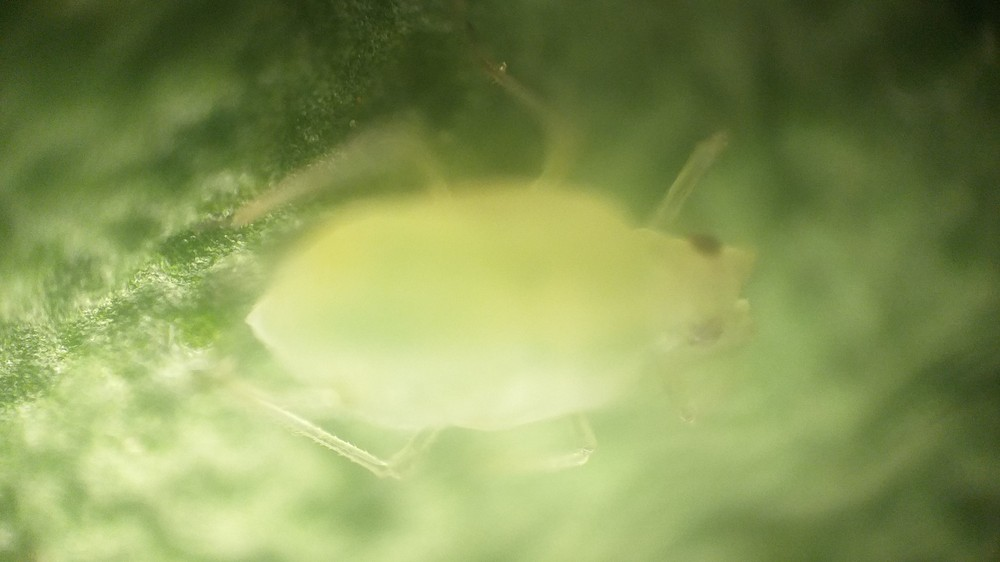Pulgon: (202, 70, 795, 534)
